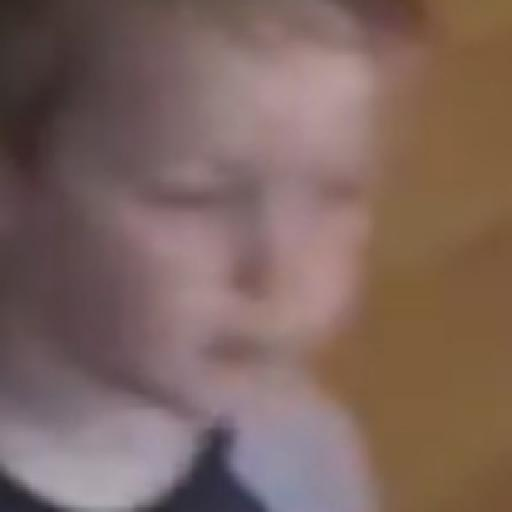Autism: (25, 2, 426, 446)
